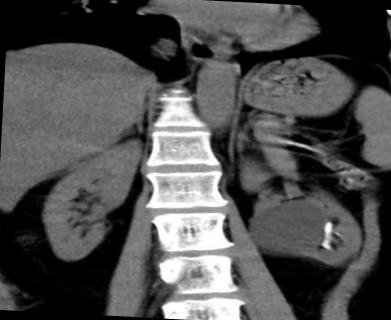Tas_Var: (316, 234, 336, 253), (320, 220, 334, 236), (332, 230, 342, 236)
